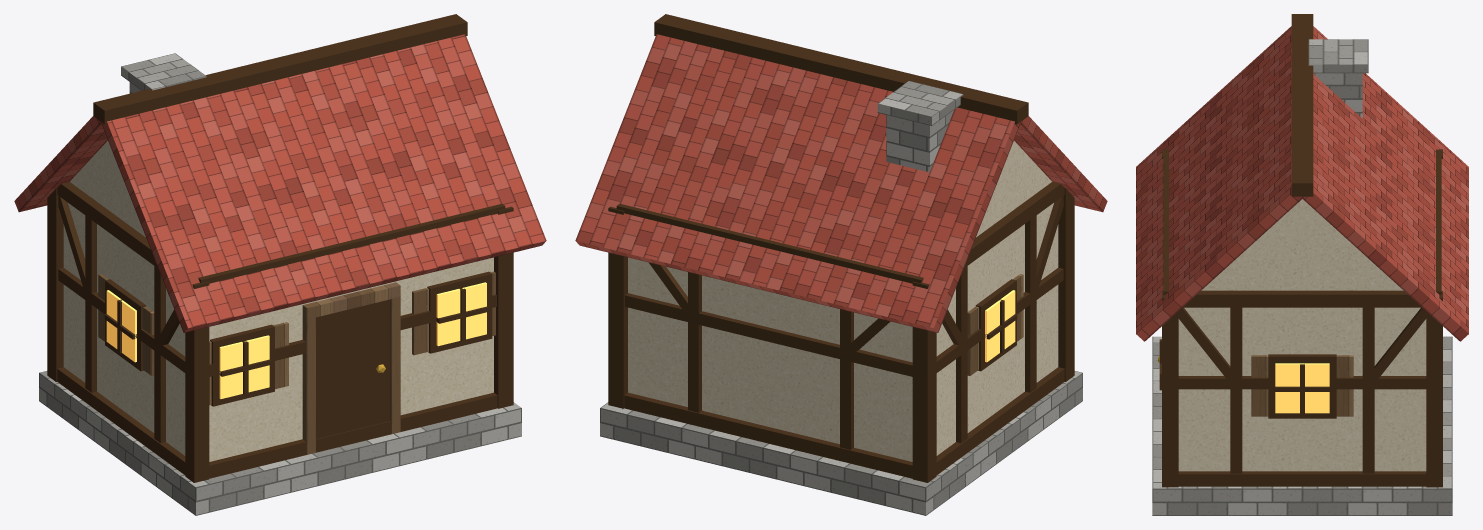
Rendered from farmhouse.glb.
The picture shows the model from 3 angles, left to right: view 1: azimuth 30°, elevation 25°; view 2: azimuth 150°, elevation 25°; view 3: azimuth 270°, elevation 25°; orthographic projection. The views are drawn at different scales.
Parts seen in each view (by area): view 1: farmhouse; view 2: farmhouse; view 3: farmhouse.
Boxes of the visible parts, x1,y1,x2,y2 form: farmhouse: (14, 14, 546, 515); farmhouse: (575, 14, 1107, 515); farmhouse: (1136, 14, 1468, 515).
Bounding box in the file's own units: 3.34 × 3.15 × 2.77.
7 materials, 4 textured.
